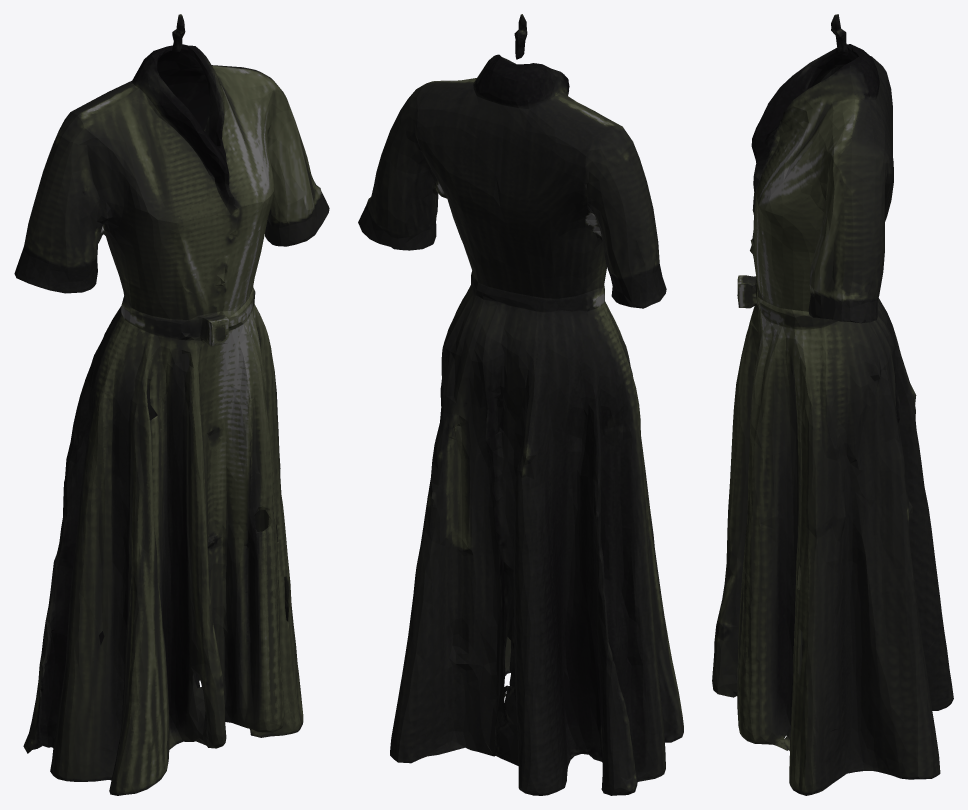
3 renders of one model, left to right at view 1: azimuth 30°, elevation 25°; view 2: azimuth 150°, elevation 25°; view 3: azimuth 270°, elevation 25°, orthographic.
Parts seen in each view (by area): view 1: world; view 2: world; view 3: world.
Part boxes in pixels (box(x1,y1,x2,y2)): world: box(14, 14, 329, 795); world: box(358, 14, 683, 795); world: box(712, 14, 953, 795).
Size of the model in its own units: 0.4339 by 0.997 by 0.2986.
Materials: 1 (1 with a texture image).
